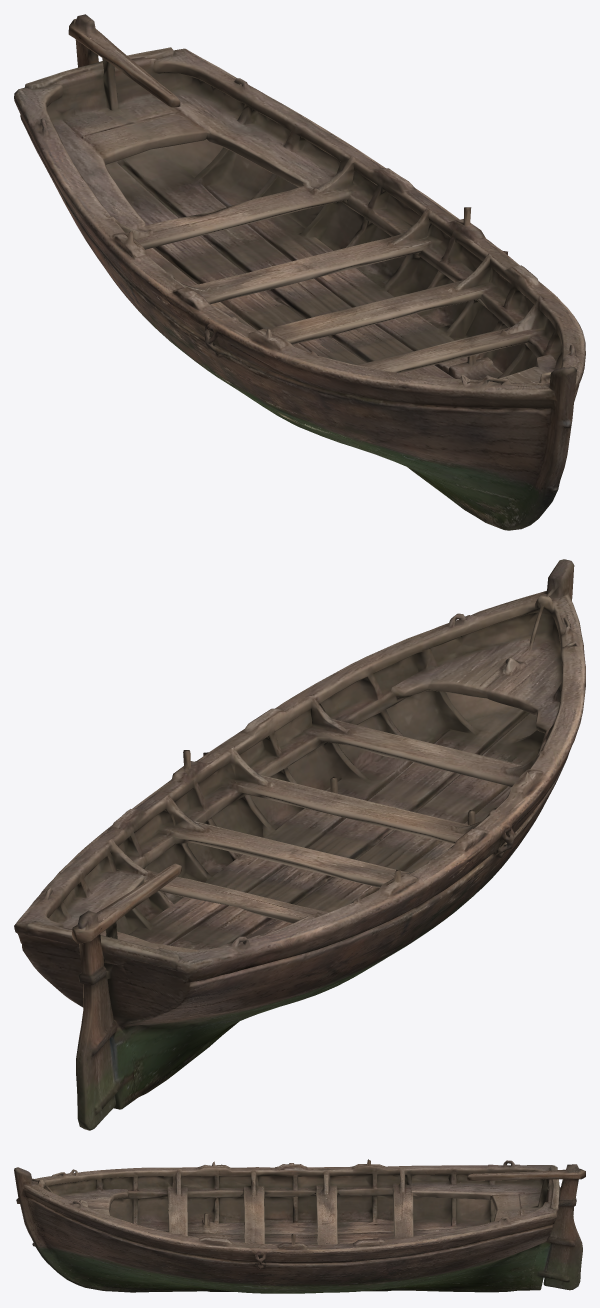
Rendered from modele.glb.
The picture shows the model from 3 angles, top to bottom: view 1: azimuth 30°, elevation 25°; view 2: azimuth 150°, elevation 25°; view 3: azimuth 270°, elevation 25°; orthographic projection. The views are drawn at different scales.
Visible parts, largest first — view 1: tripo_node_a5df6860-e8a8-4a15-8625-f844a7d1ccd2; view 2: tripo_node_a5df6860-e8a8-4a15-8625-f844a7d1ccd2; view 3: tripo_node_a5df6860-e8a8-4a15-8625-f844a7d1ccd2.
Part boxes in pixels (<box>): tripo_node_a5df6860-e8a8-4a15-8625-f844a7d1ccd2: <box>14,14,585,530</box>; tripo_node_a5df6860-e8a8-4a15-8625-f844a7d1ccd2: <box>14,559,585,1130</box>; tripo_node_a5df6860-e8a8-4a15-8625-f844a7d1ccd2: <box>14,1159,585,1293</box>.
Bounding box in the file's own units: 0.6834 × 0.46 × 1.9.
Materials: 1 (1 with a texture image).
